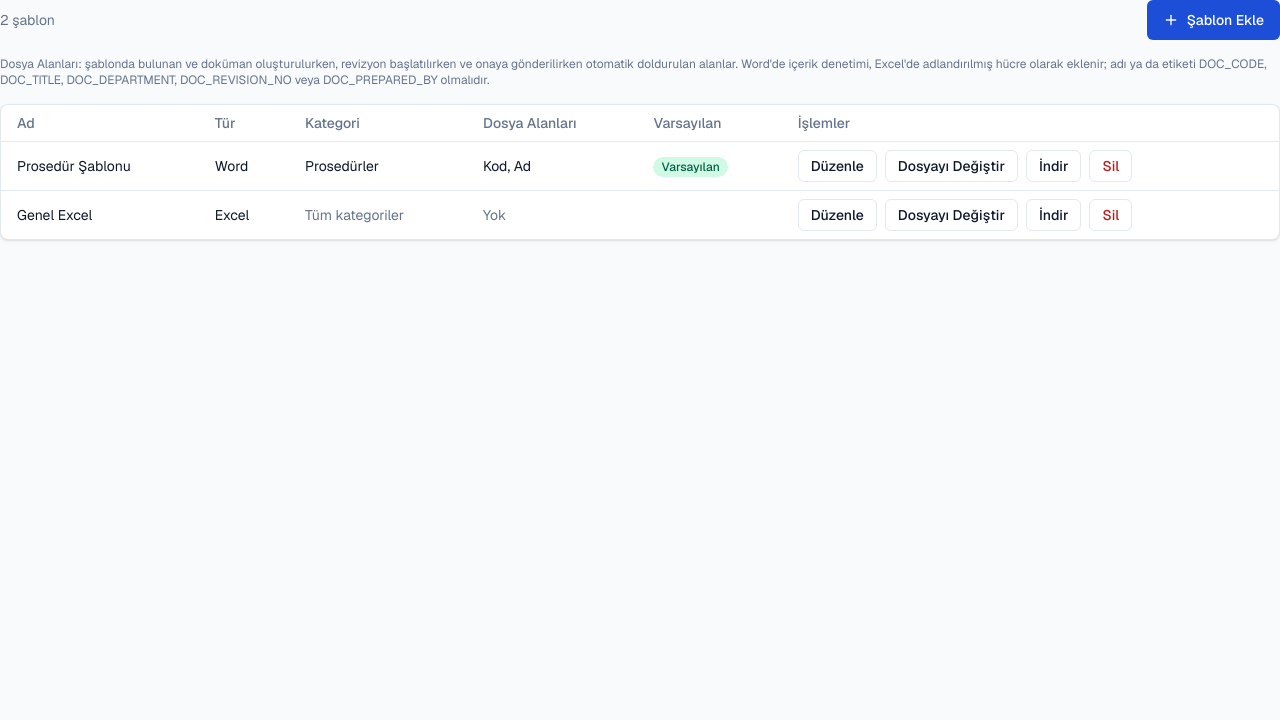
Test: TemplateAdmin deleting › shows the reason the API gives for the last template of a type
This screenshot has width=1280, height=720.
Step 1. Click the button "Sil" in the row of "Prosedür Şablonu" → (1111, 166), box [1089,150,1132,182]
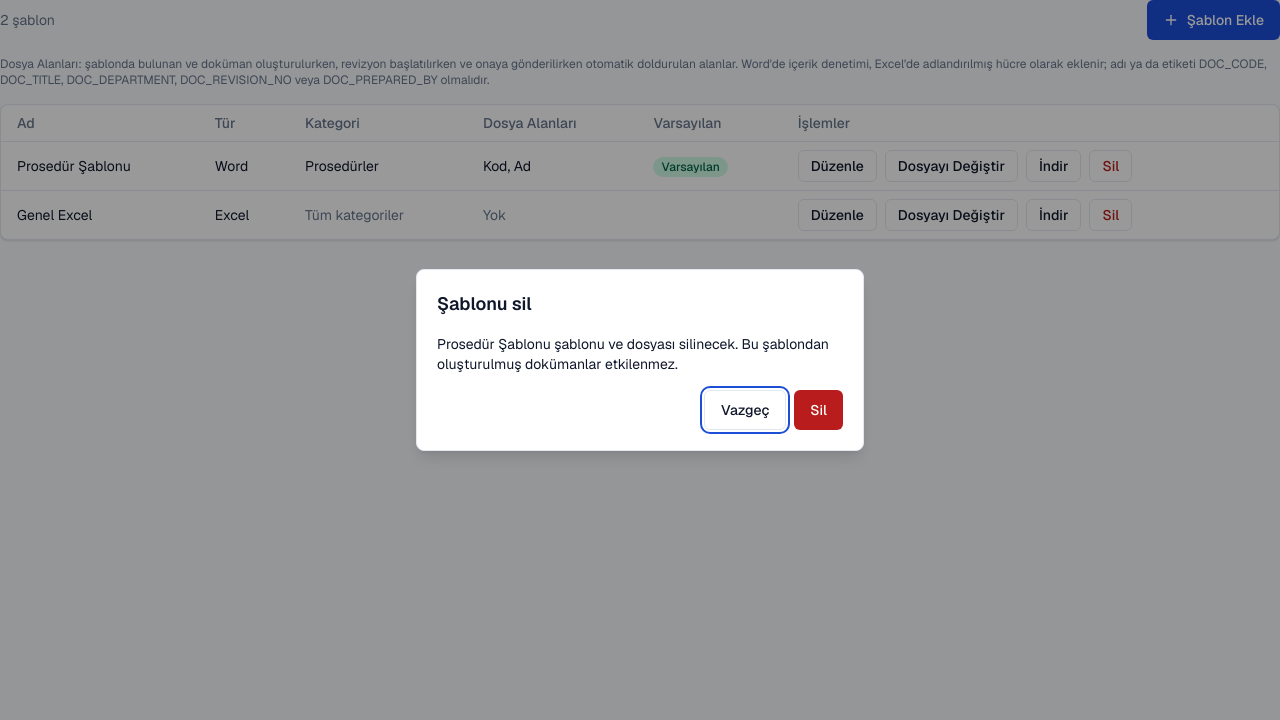
Step 2. Click the button "Sil" → (819, 410), box [794,390,843,430]
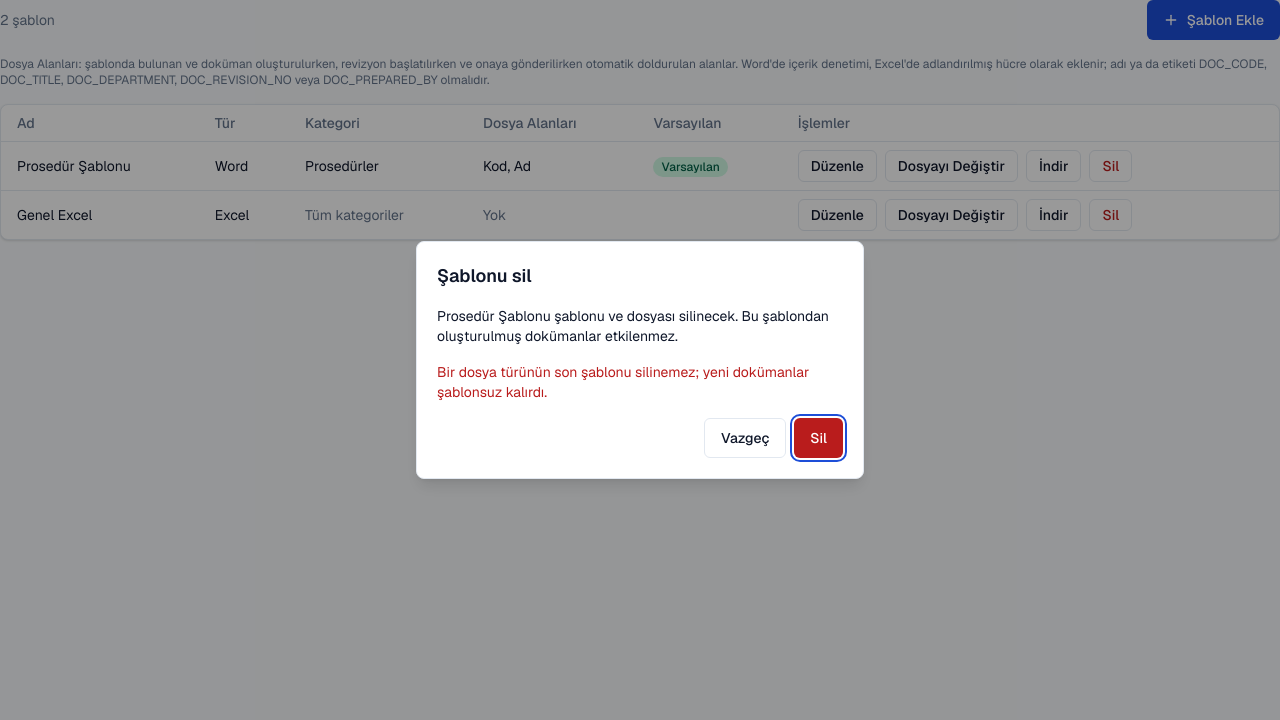
Check: the message reads "Bir dosya türünün son şablonu silinemez; yeni dokümanlar şablonsuz kalırdı.", box [437,363,809,401]
